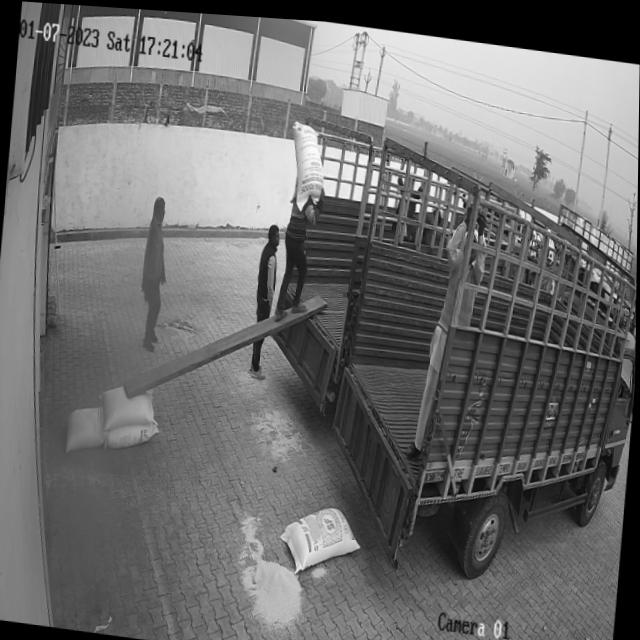sack: (279, 496, 363, 576), (285, 115, 328, 211), (99, 381, 156, 433), (65, 400, 107, 454), (104, 414, 162, 452)
